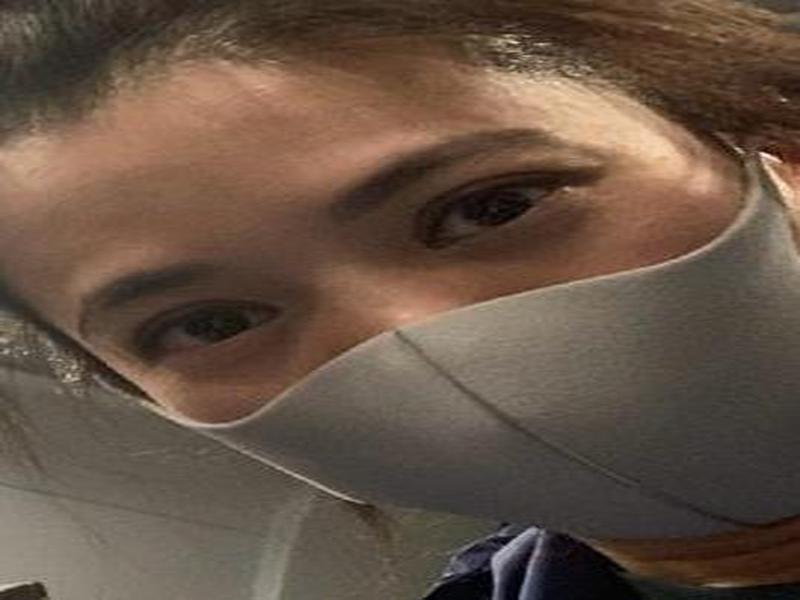with_mask: (1, 19, 800, 559)
